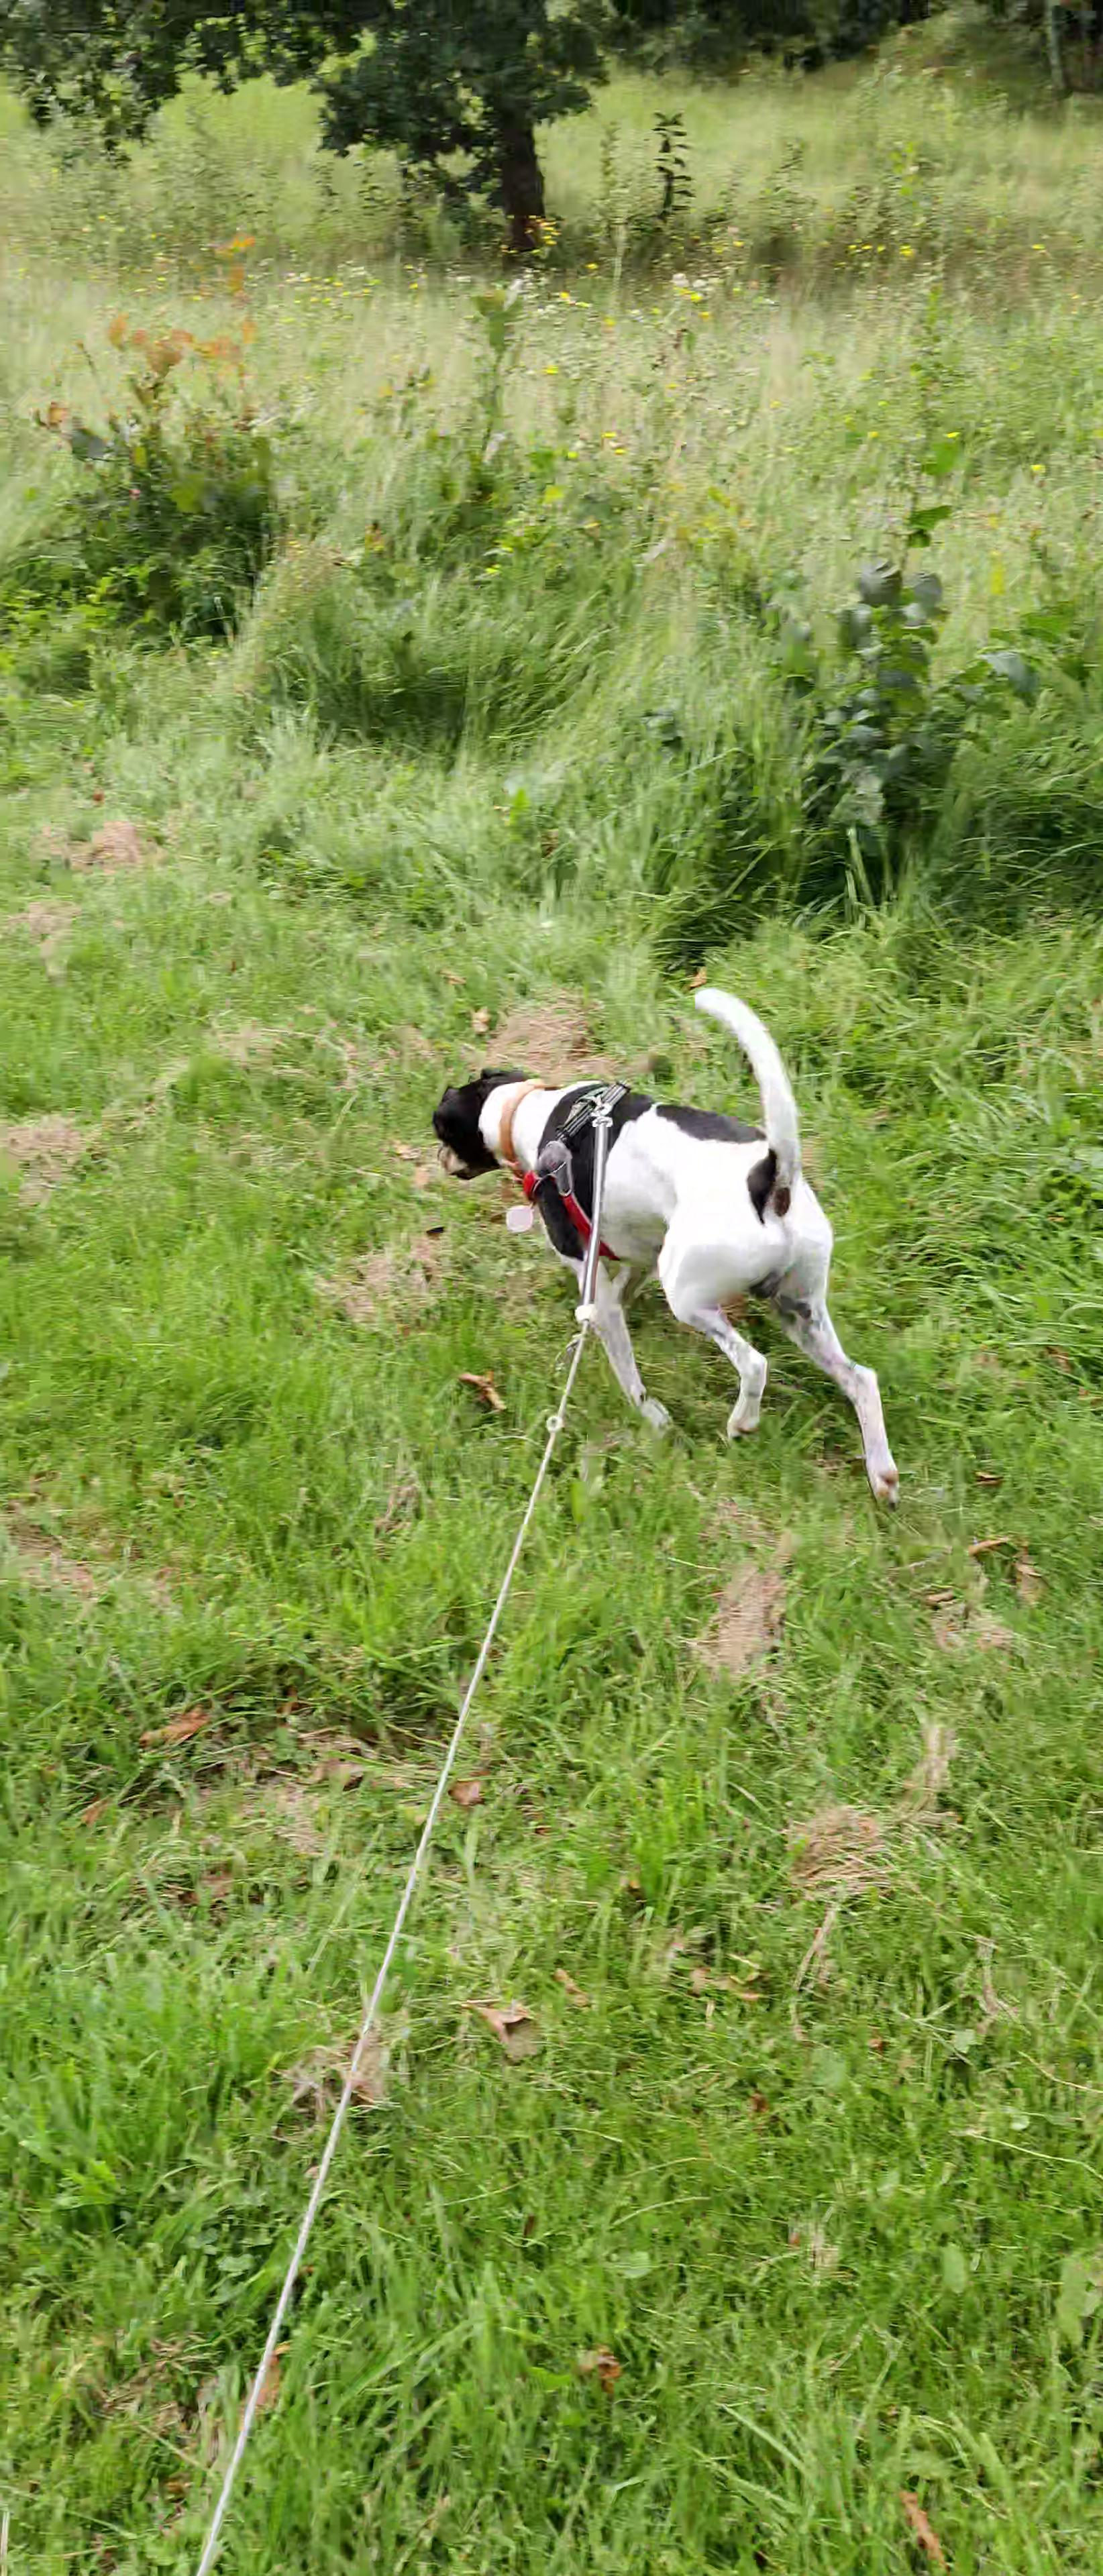Dog: (424, 982, 916, 1511)
